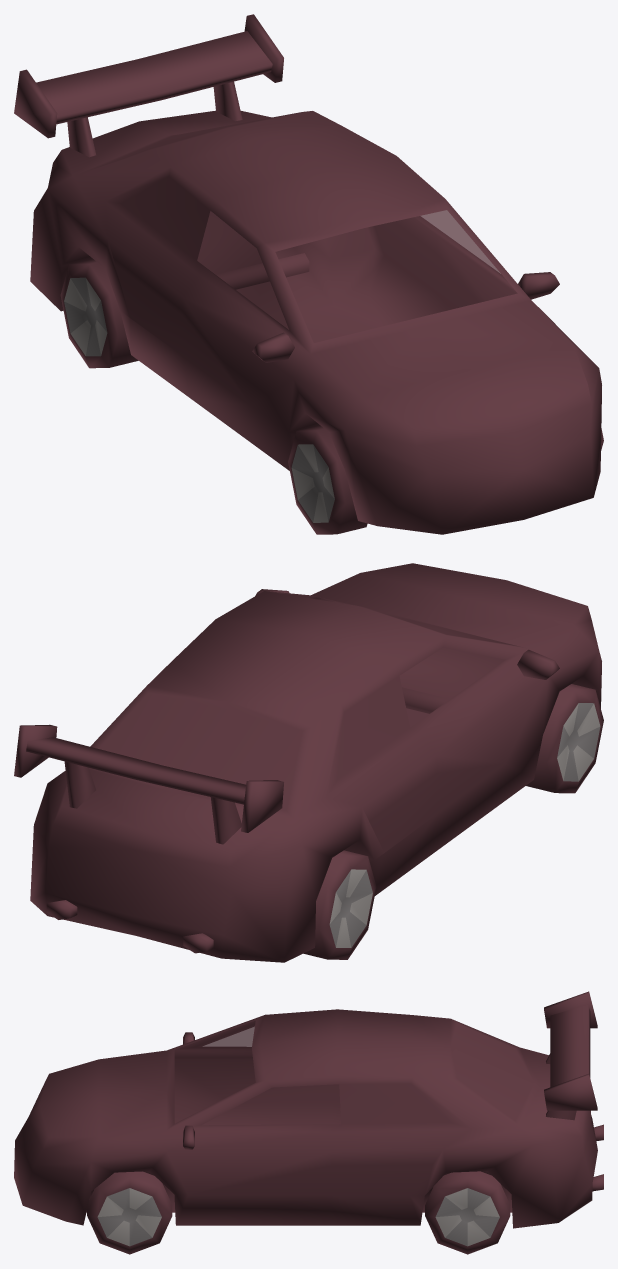
The model's file is car-passenger-race.fbx.
The picture shows the model from 3 angles, top to bottom: view 1: azimuth 30°, elevation 25°; view 2: azimuth 150°, elevation 25°; view 3: azimuth 270°, elevation 25°; orthographic projection. The views are drawn at different scales.
Visible parts, largest first — view 1: car-passenger-race-base, car-passenger-race-wheel_BR, car-passenger-race-wheel_FR; view 2: car-passenger-race-base, car-passenger-race-wheel_FR, car-passenger-race-wheel_BR; view 3: car-passenger-race-base, car-passenger-race-wheel_BL, car-passenger-race-wheel_FL.
Boxes of the visible parts, <box> form: car-passenger-race-base: <box>14,14,601,534</box>; car-passenger-race-wheel_BR: <box>60,258,138,368</box>; car-passenger-race-wheel_FR: <box>288,425,367,534</box>; car-passenger-race-base: <box>14,563,601,962</box>; car-passenger-race-wheel_FR: <box>526,684,603,793</box>; car-passenger-race-wheel_BR: <box>303,850,376,959</box>; car-passenger-race-base: <box>14,991,603,1228</box>; car-passenger-race-wheel_BL: <box>425,1171,510,1254</box>; car-passenger-race-wheel_FL: <box>87,1171,172,1254</box>.
Bounding box in the file's own units: 210 × 157 × 481.
